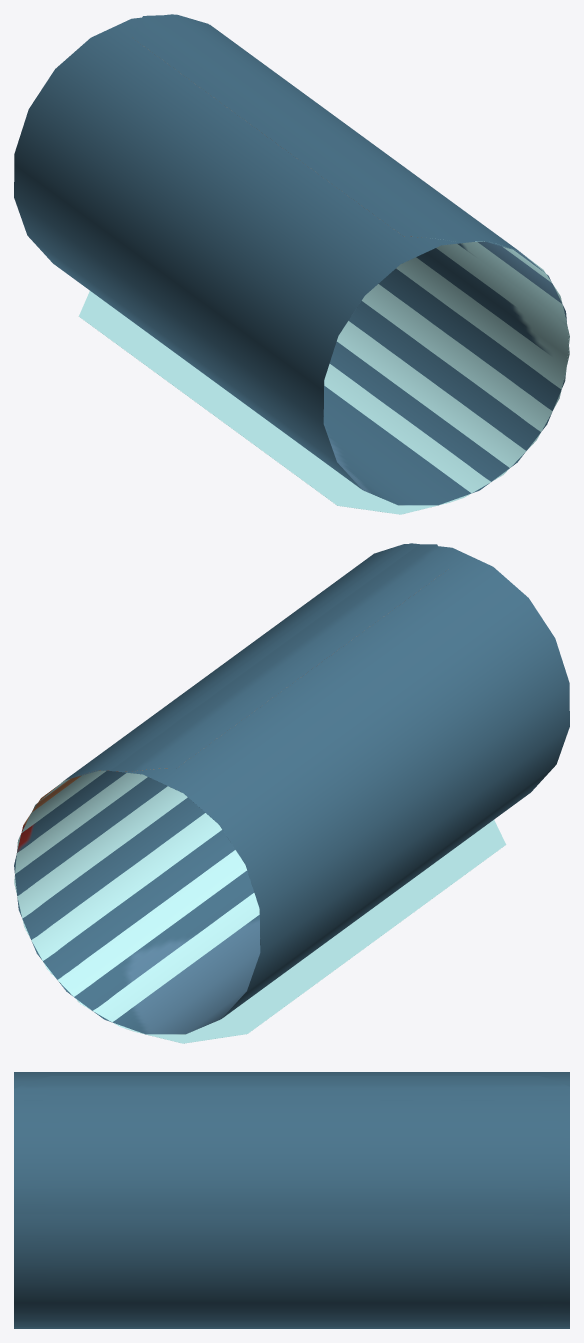
File: Level 155.fbx
The picture shows the model from 3 angles, top to bottom: view 1: azimuth 30°, elevation 25°; view 2: azimuth 150°, elevation 25°; view 3: azimuth 270°, elevation 25°; orthographic projection. The views are drawn at different scales.
Visible parts, largest first — view 1: stool; view 2: stool; view 3: stool.
Part boxes in pixels (left/top/right/bottom): stool: left=14, top=14, right=569, bottom=514; stool: left=14, top=543, right=569, bottom=1043; stool: left=14, top=1072, right=569, bottom=1328.
Size of what is drawn, in the model's own units: 118 by 118 by 256.
